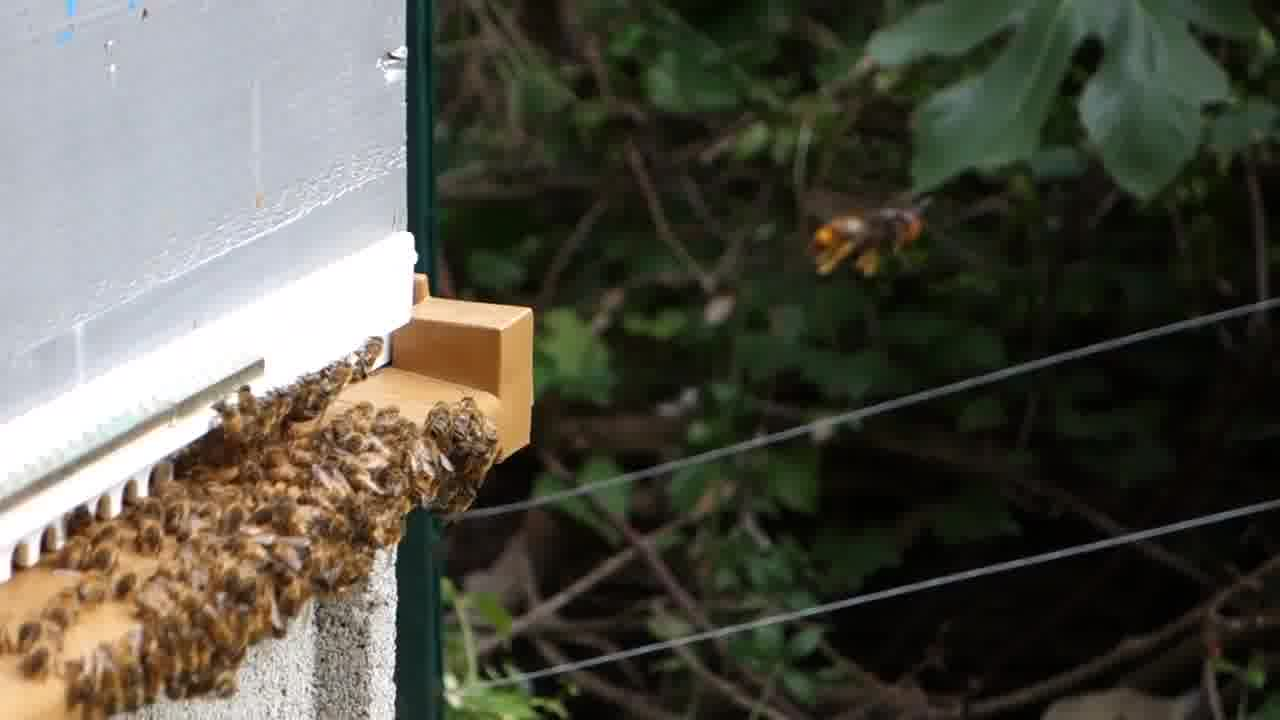bee: (208, 433, 403, 552), (128, 571, 251, 703), (122, 482, 213, 563), (406, 439, 495, 519), (267, 554, 367, 624), (270, 362, 340, 420), (61, 646, 123, 703), (423, 393, 486, 440), (349, 390, 398, 439), (206, 396, 242, 435), (355, 329, 386, 368), (230, 385, 262, 420)
hornet: (811, 188, 940, 290)
